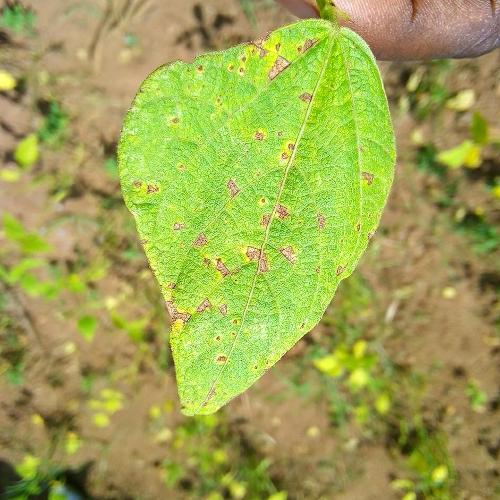hawar: (174, 57, 320, 314)
